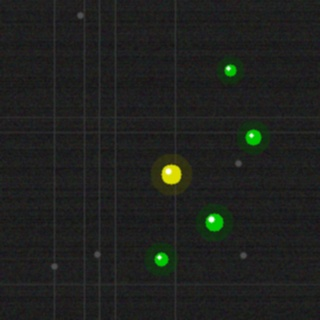green_normal: (203, 211, 225, 233), (243, 127, 263, 147), (152, 250, 170, 268), (222, 62, 238, 78)
yellow_warning: (159, 162, 183, 186)
